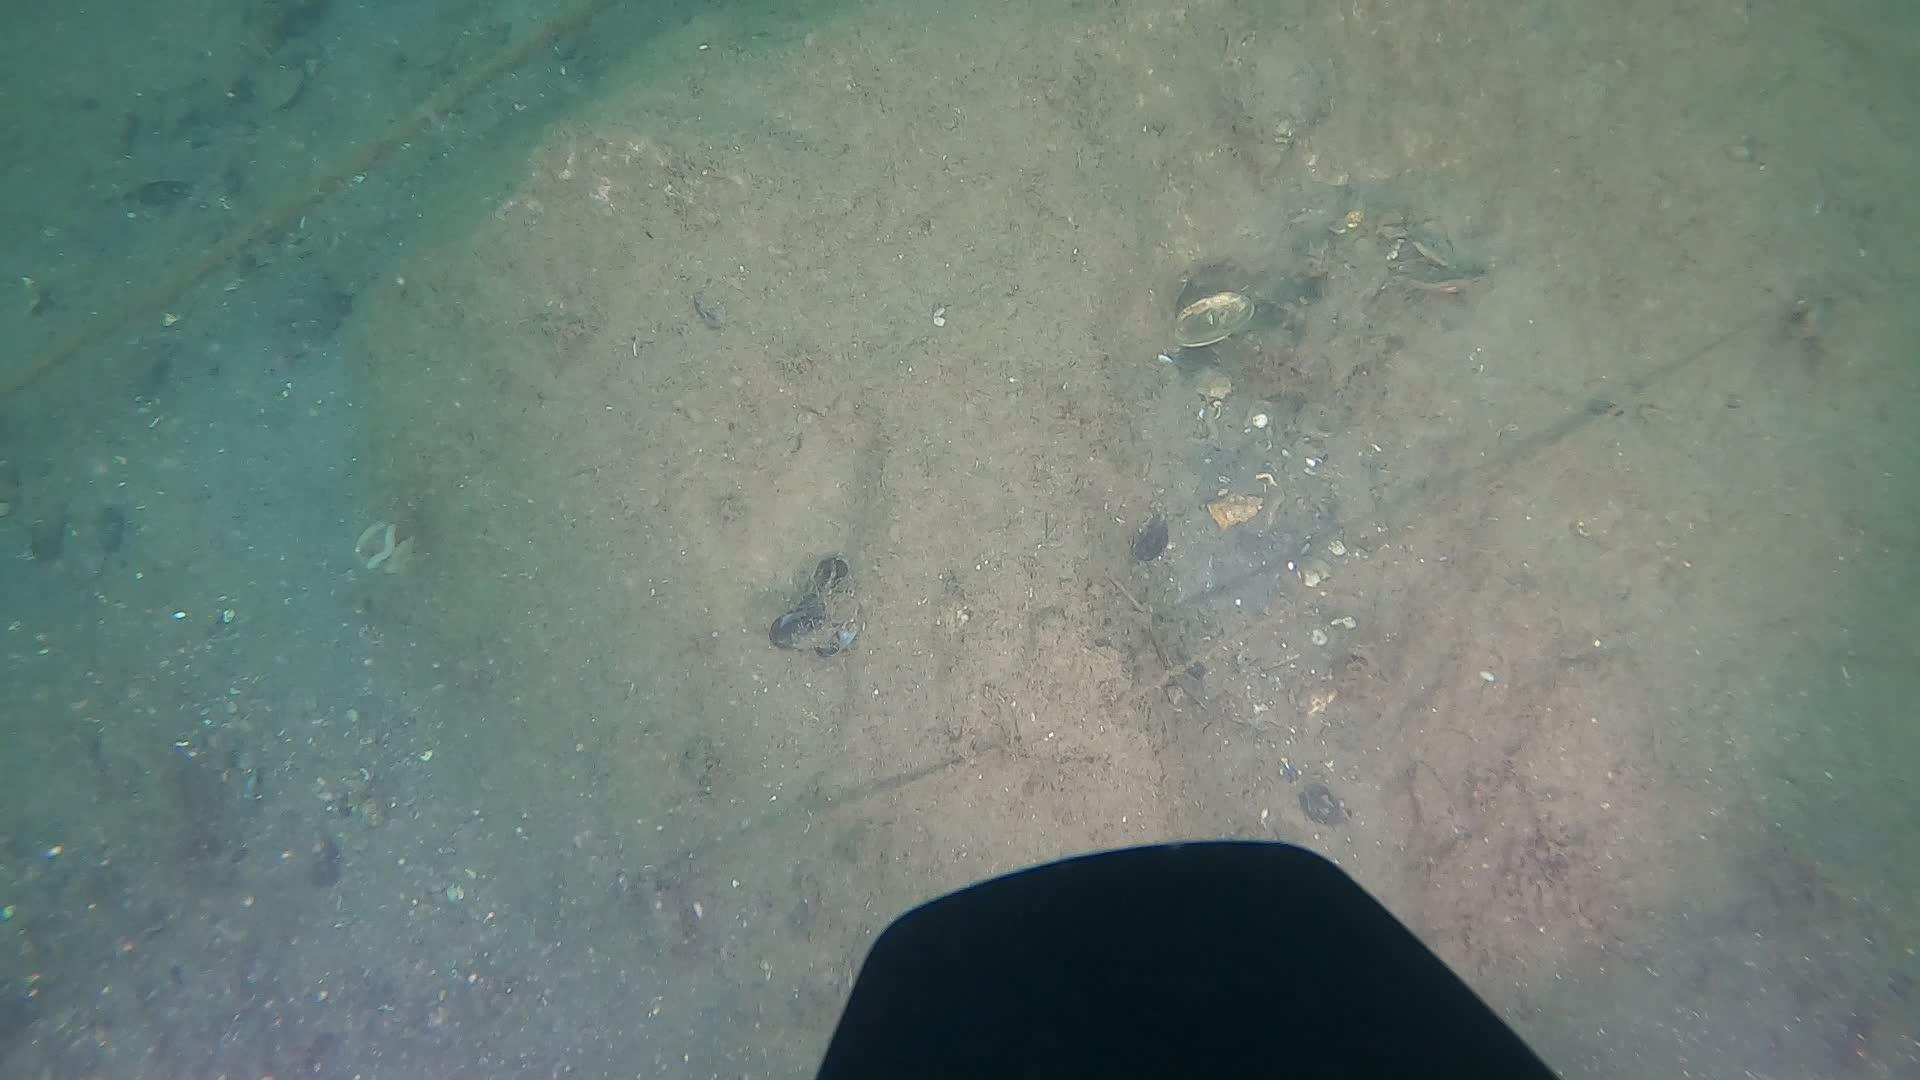rope: (0, 0, 615, 404)
